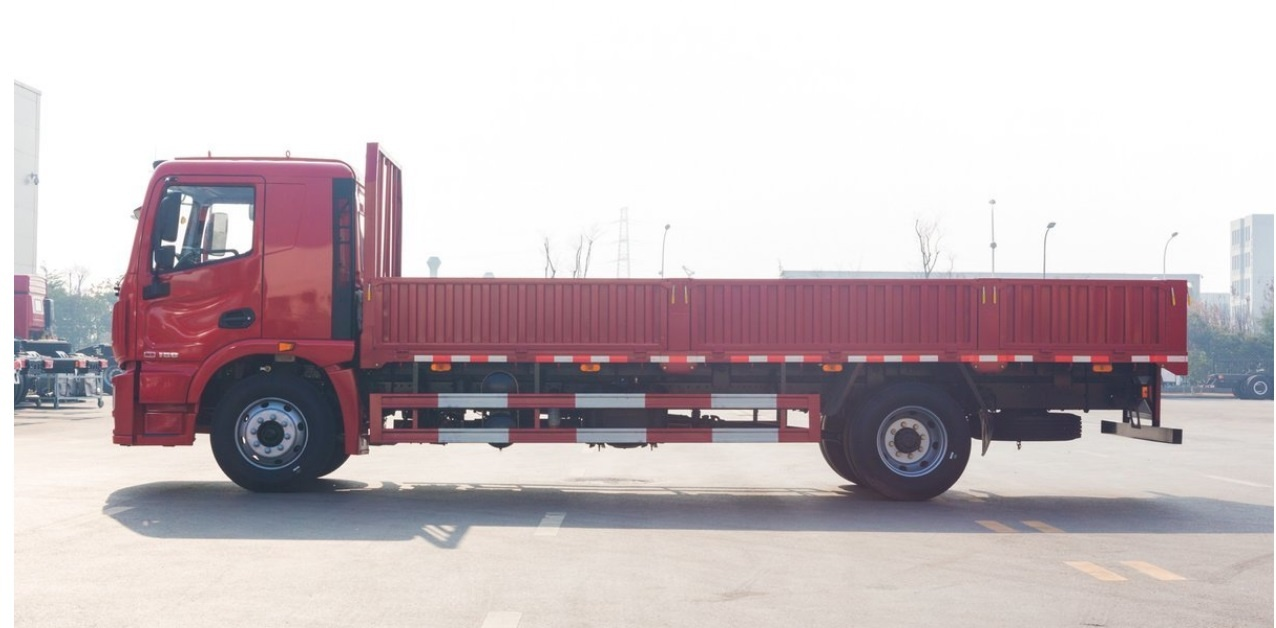heavy truck: (96, 103, 1244, 554)
